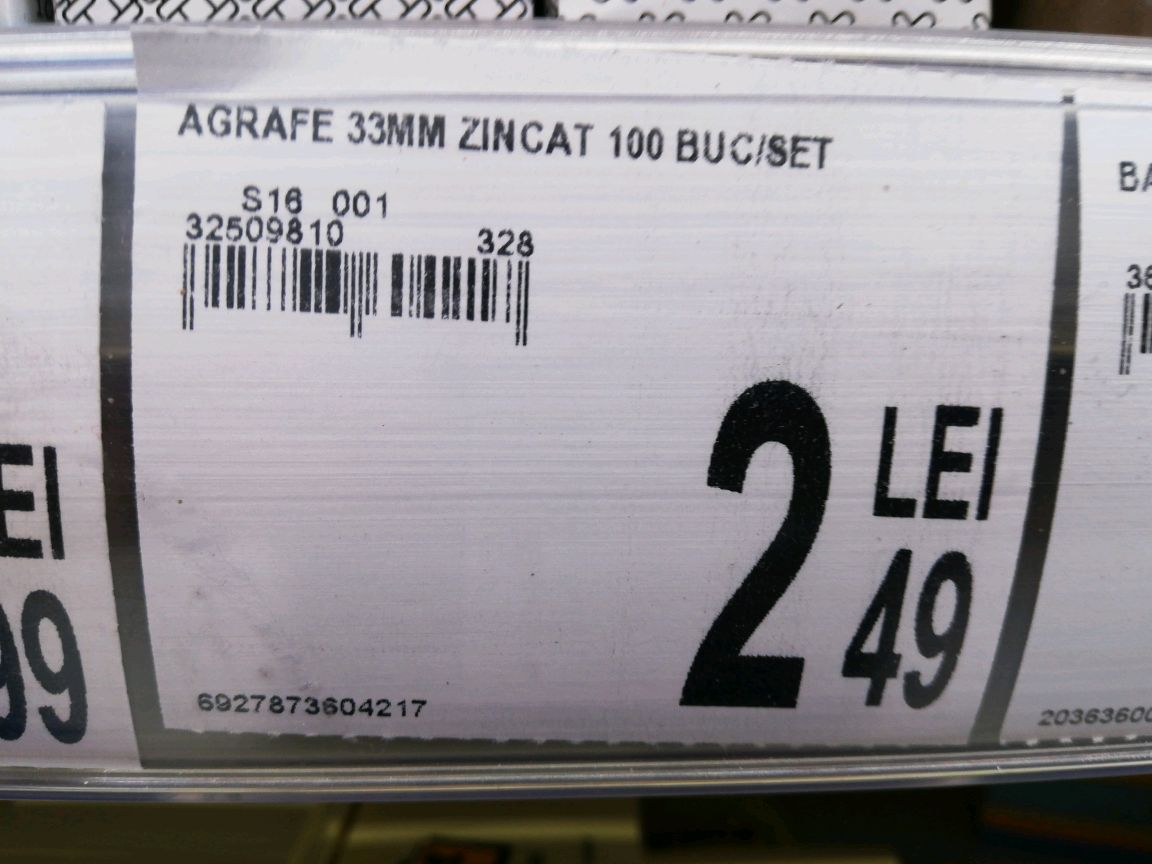price_bani: (831, 542, 982, 720)
price_lei: (666, 368, 838, 722)
price_tag: (120, 21, 1067, 756)
product_id: (177, 678, 440, 727)
product_name: (165, 78, 856, 176)
